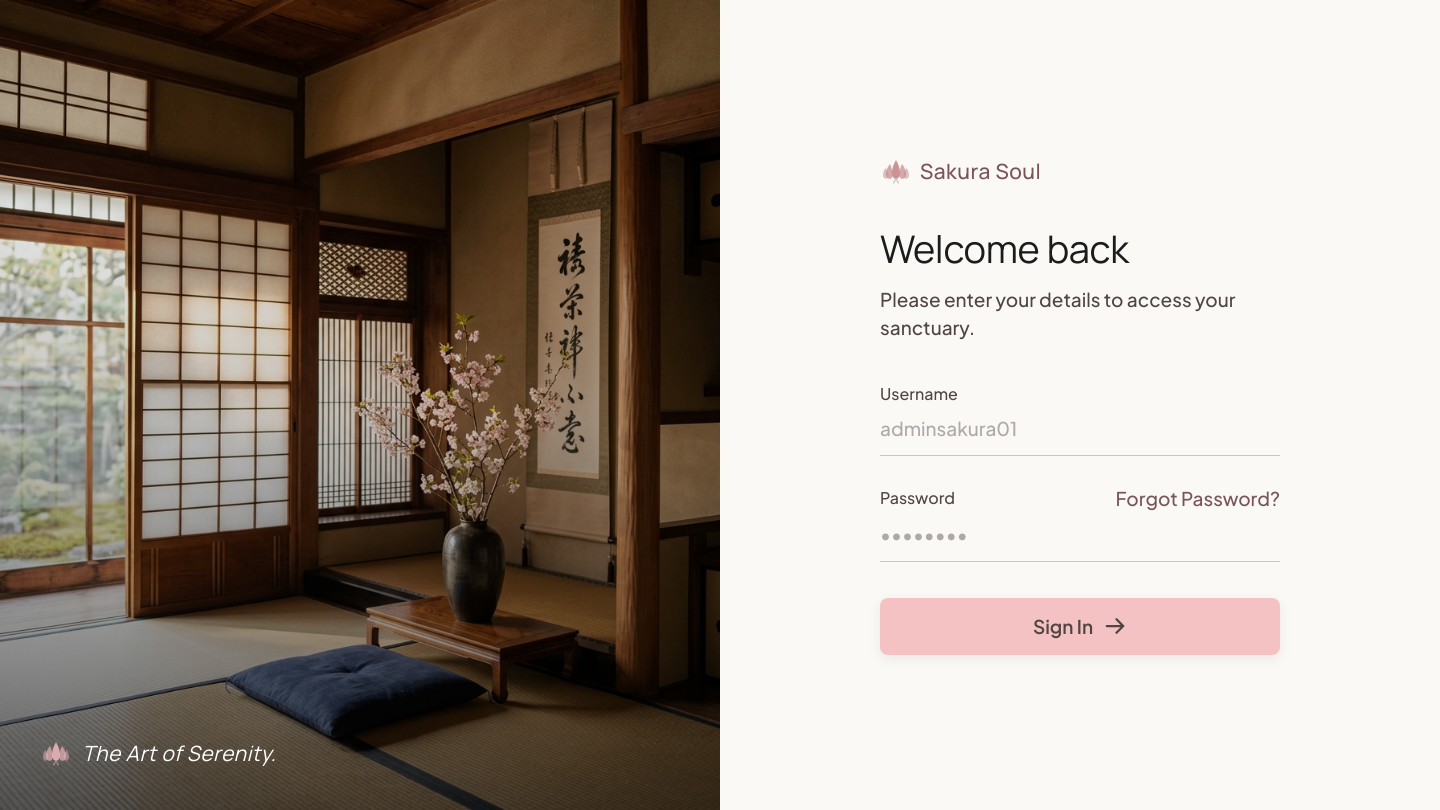
it: LoginPage › shows the message from the server and stays on the form when the credentials are wrong
The width and height of the screenshot is (1440, 810).
In the field labelled "Username": (1080, 434) [880,412,1280,456], type "admin"
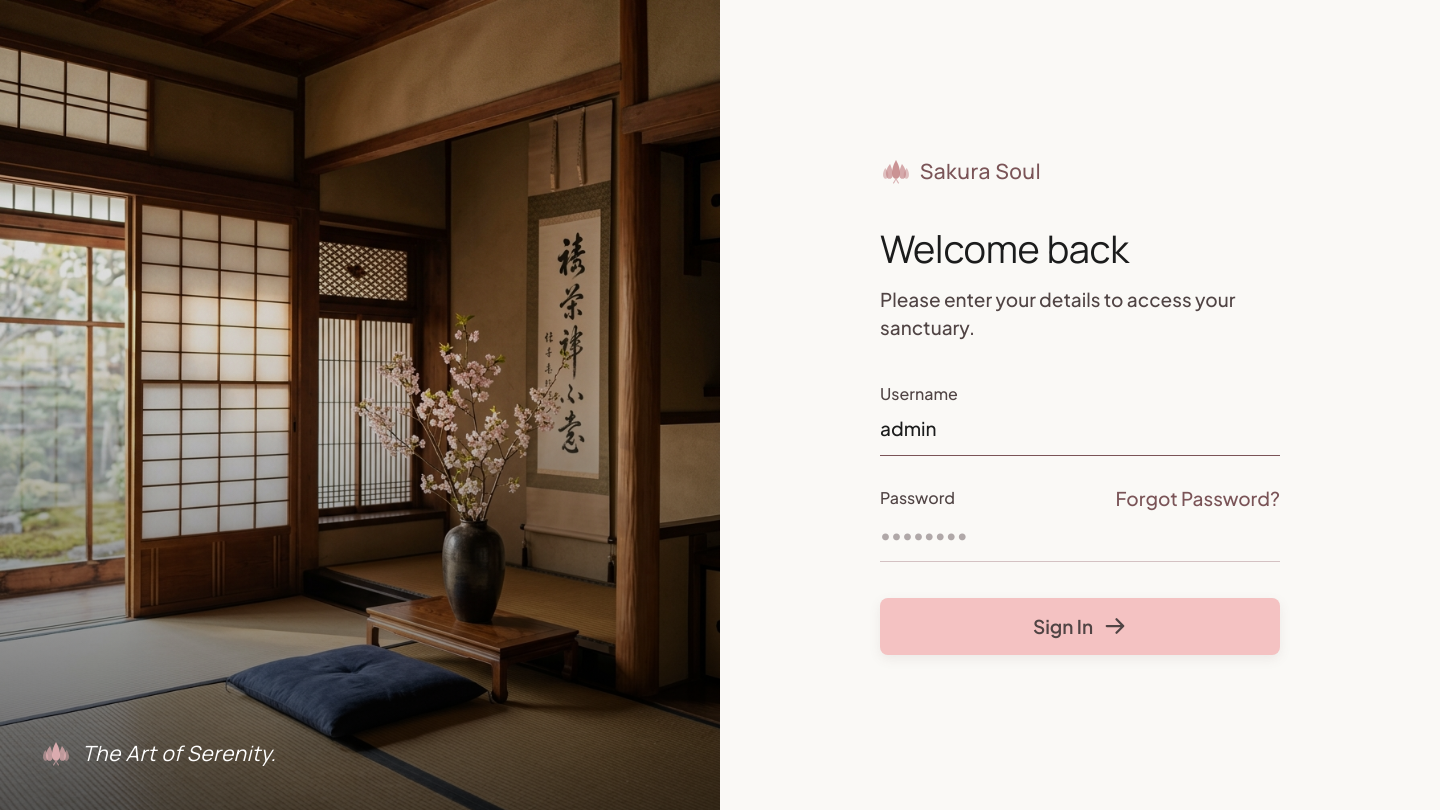
In the password field labelled "Password": (1080, 540) [880,518,1280,562], type "not-the-password"
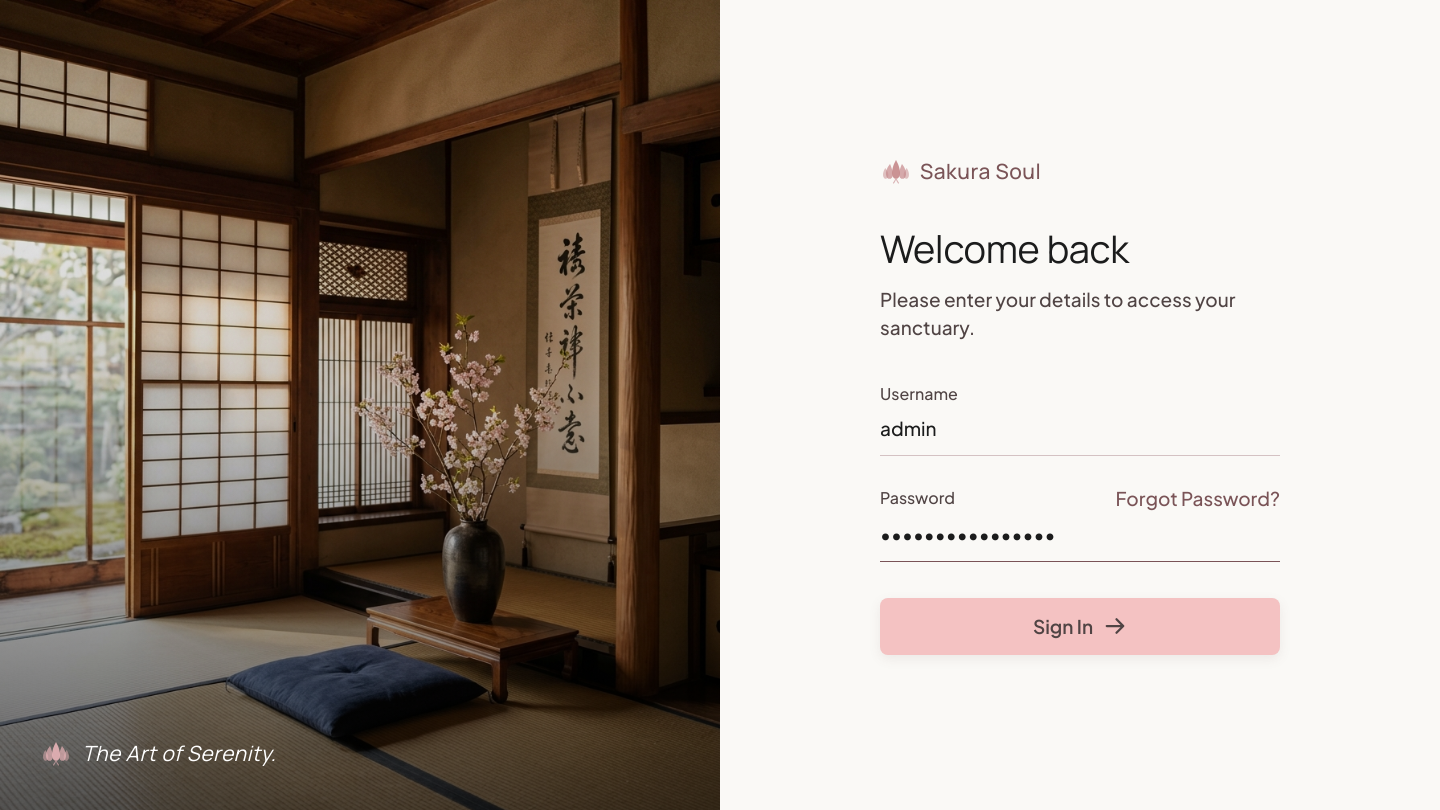
Click the button "Sign In": (1080, 626) [880,598,1280,654]
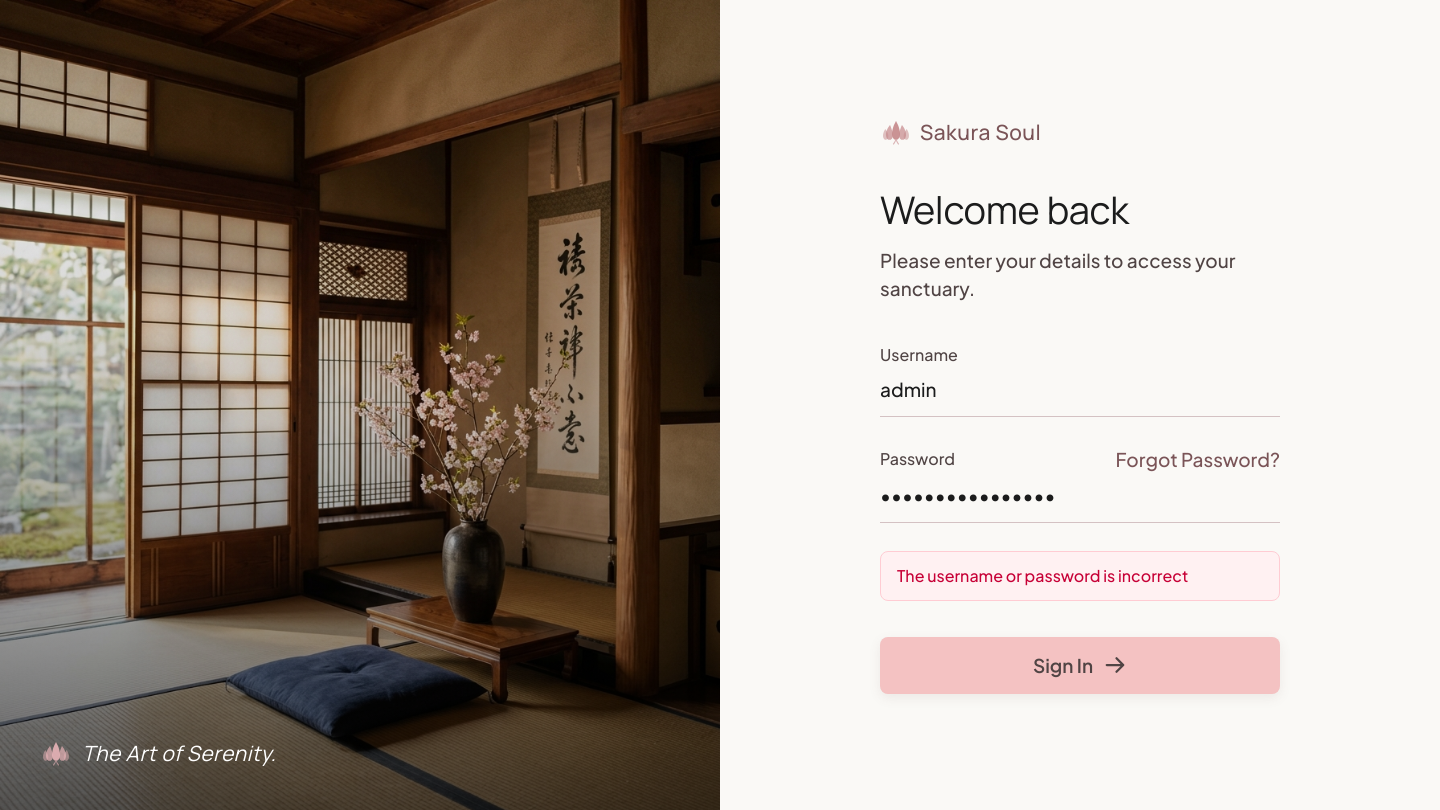
Expected: the heading "Welcome back" is shown, [880,182,1129,234]
Now the message reads "The username or password is incorrect", box [897,565,1188,586]
